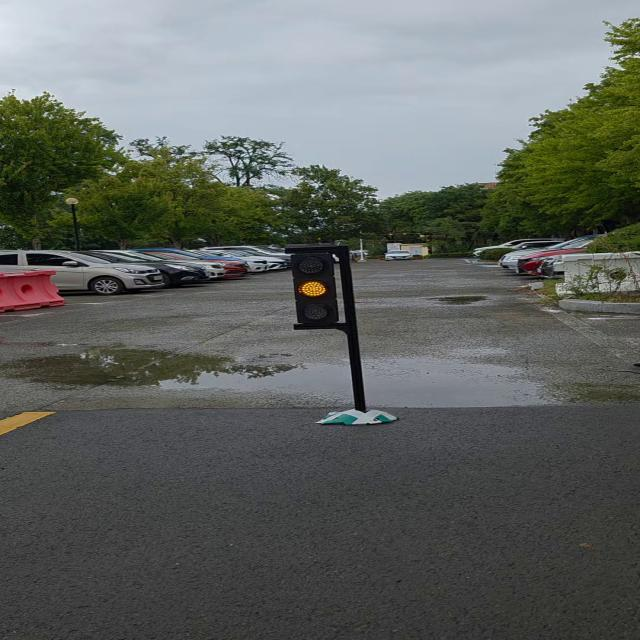yellow: (282, 242, 344, 332)
